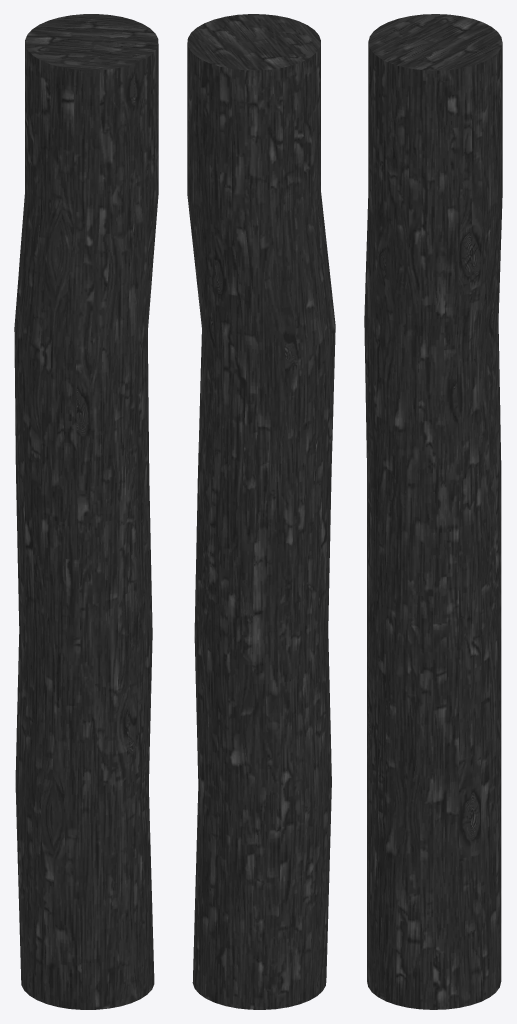
File: longLog-transformed.glb
3 renders of one model, left to right at view 1: azimuth 30°, elevation 25°; view 2: azimuth 150°, elevation 25°; view 3: azimuth 270°, elevation 25°, orthographic.
Parts seen in each view (by area): view 1: Cylinder.002; view 2: Cylinder.002; view 3: Cylinder.002.
Boxes of the visible parts, <box> form: Cylinder.002: <box>14,14,158,1009</box>; Cylinder.002: <box>187,14,335,1009</box>; Cylinder.002: <box>364,14,502,1009</box>.
Bounding box in the file's own units: 0.5572 × 3.89 × 0.5172.
Materials: 1 (1 with a texture image).
